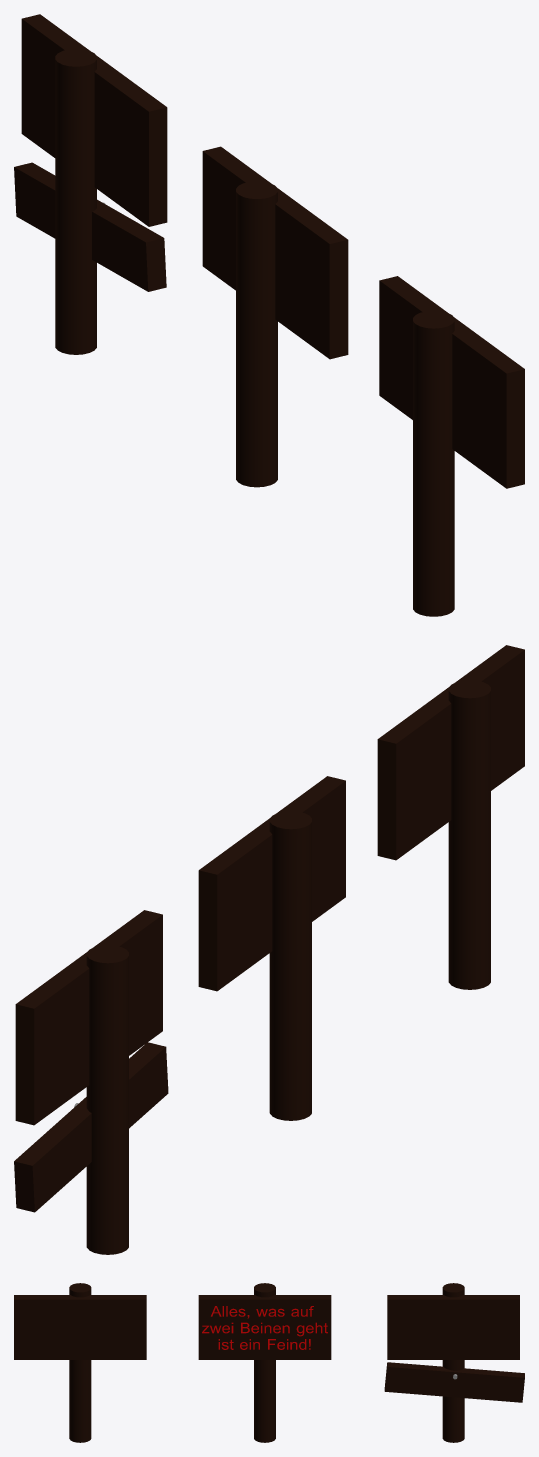
Rendered from Schilder.FBX.
3 views of the same model, one above another, from view 1: azimuth 30°, elevation 25°; view 2: azimuth 150°, elevation 25°; view 3: azimuth 270°, elevation 25° (orthographic). The views are drawn at different scales.
Parts seen in each view (by area): view 1: Cylinder003, Cylinder001, Cylinder002; view 2: Cylinder003, Cylinder002, Cylinder001; view 3: Cylinder003, Cylinder002, Cylinder001.
Part boxes in pixels (x1,y1,x2,y2): Cylinder003: (14,14,167,354); Cylinder001: (202,146,348,487); Cylinder002: (379,276,524,616); Cylinder003: (14,910,168,1254); Cylinder002: (377,645,524,989); Cylinder001: (198,776,345,1120); Cylinder003: (384,1283,524,1442); Cylinder002: (14,1283,146,1442); Cylinder001: (198,1283,331,1442).
Bounding box in the file's own units: 10.35 × 59.06 × 182.
